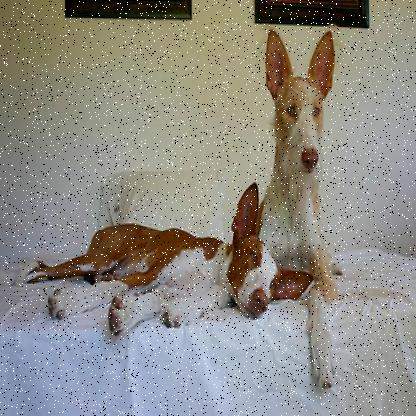dog: (241, 24, 358, 348), (55, 199, 305, 331)
